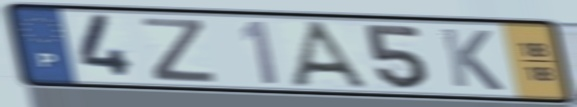1: (238, 19, 280, 87)
4: (76, 11, 142, 84)
5: (359, 21, 432, 92)
A: (287, 19, 379, 92)
K: (437, 26, 507, 93)
Z: (139, 15, 220, 84)
